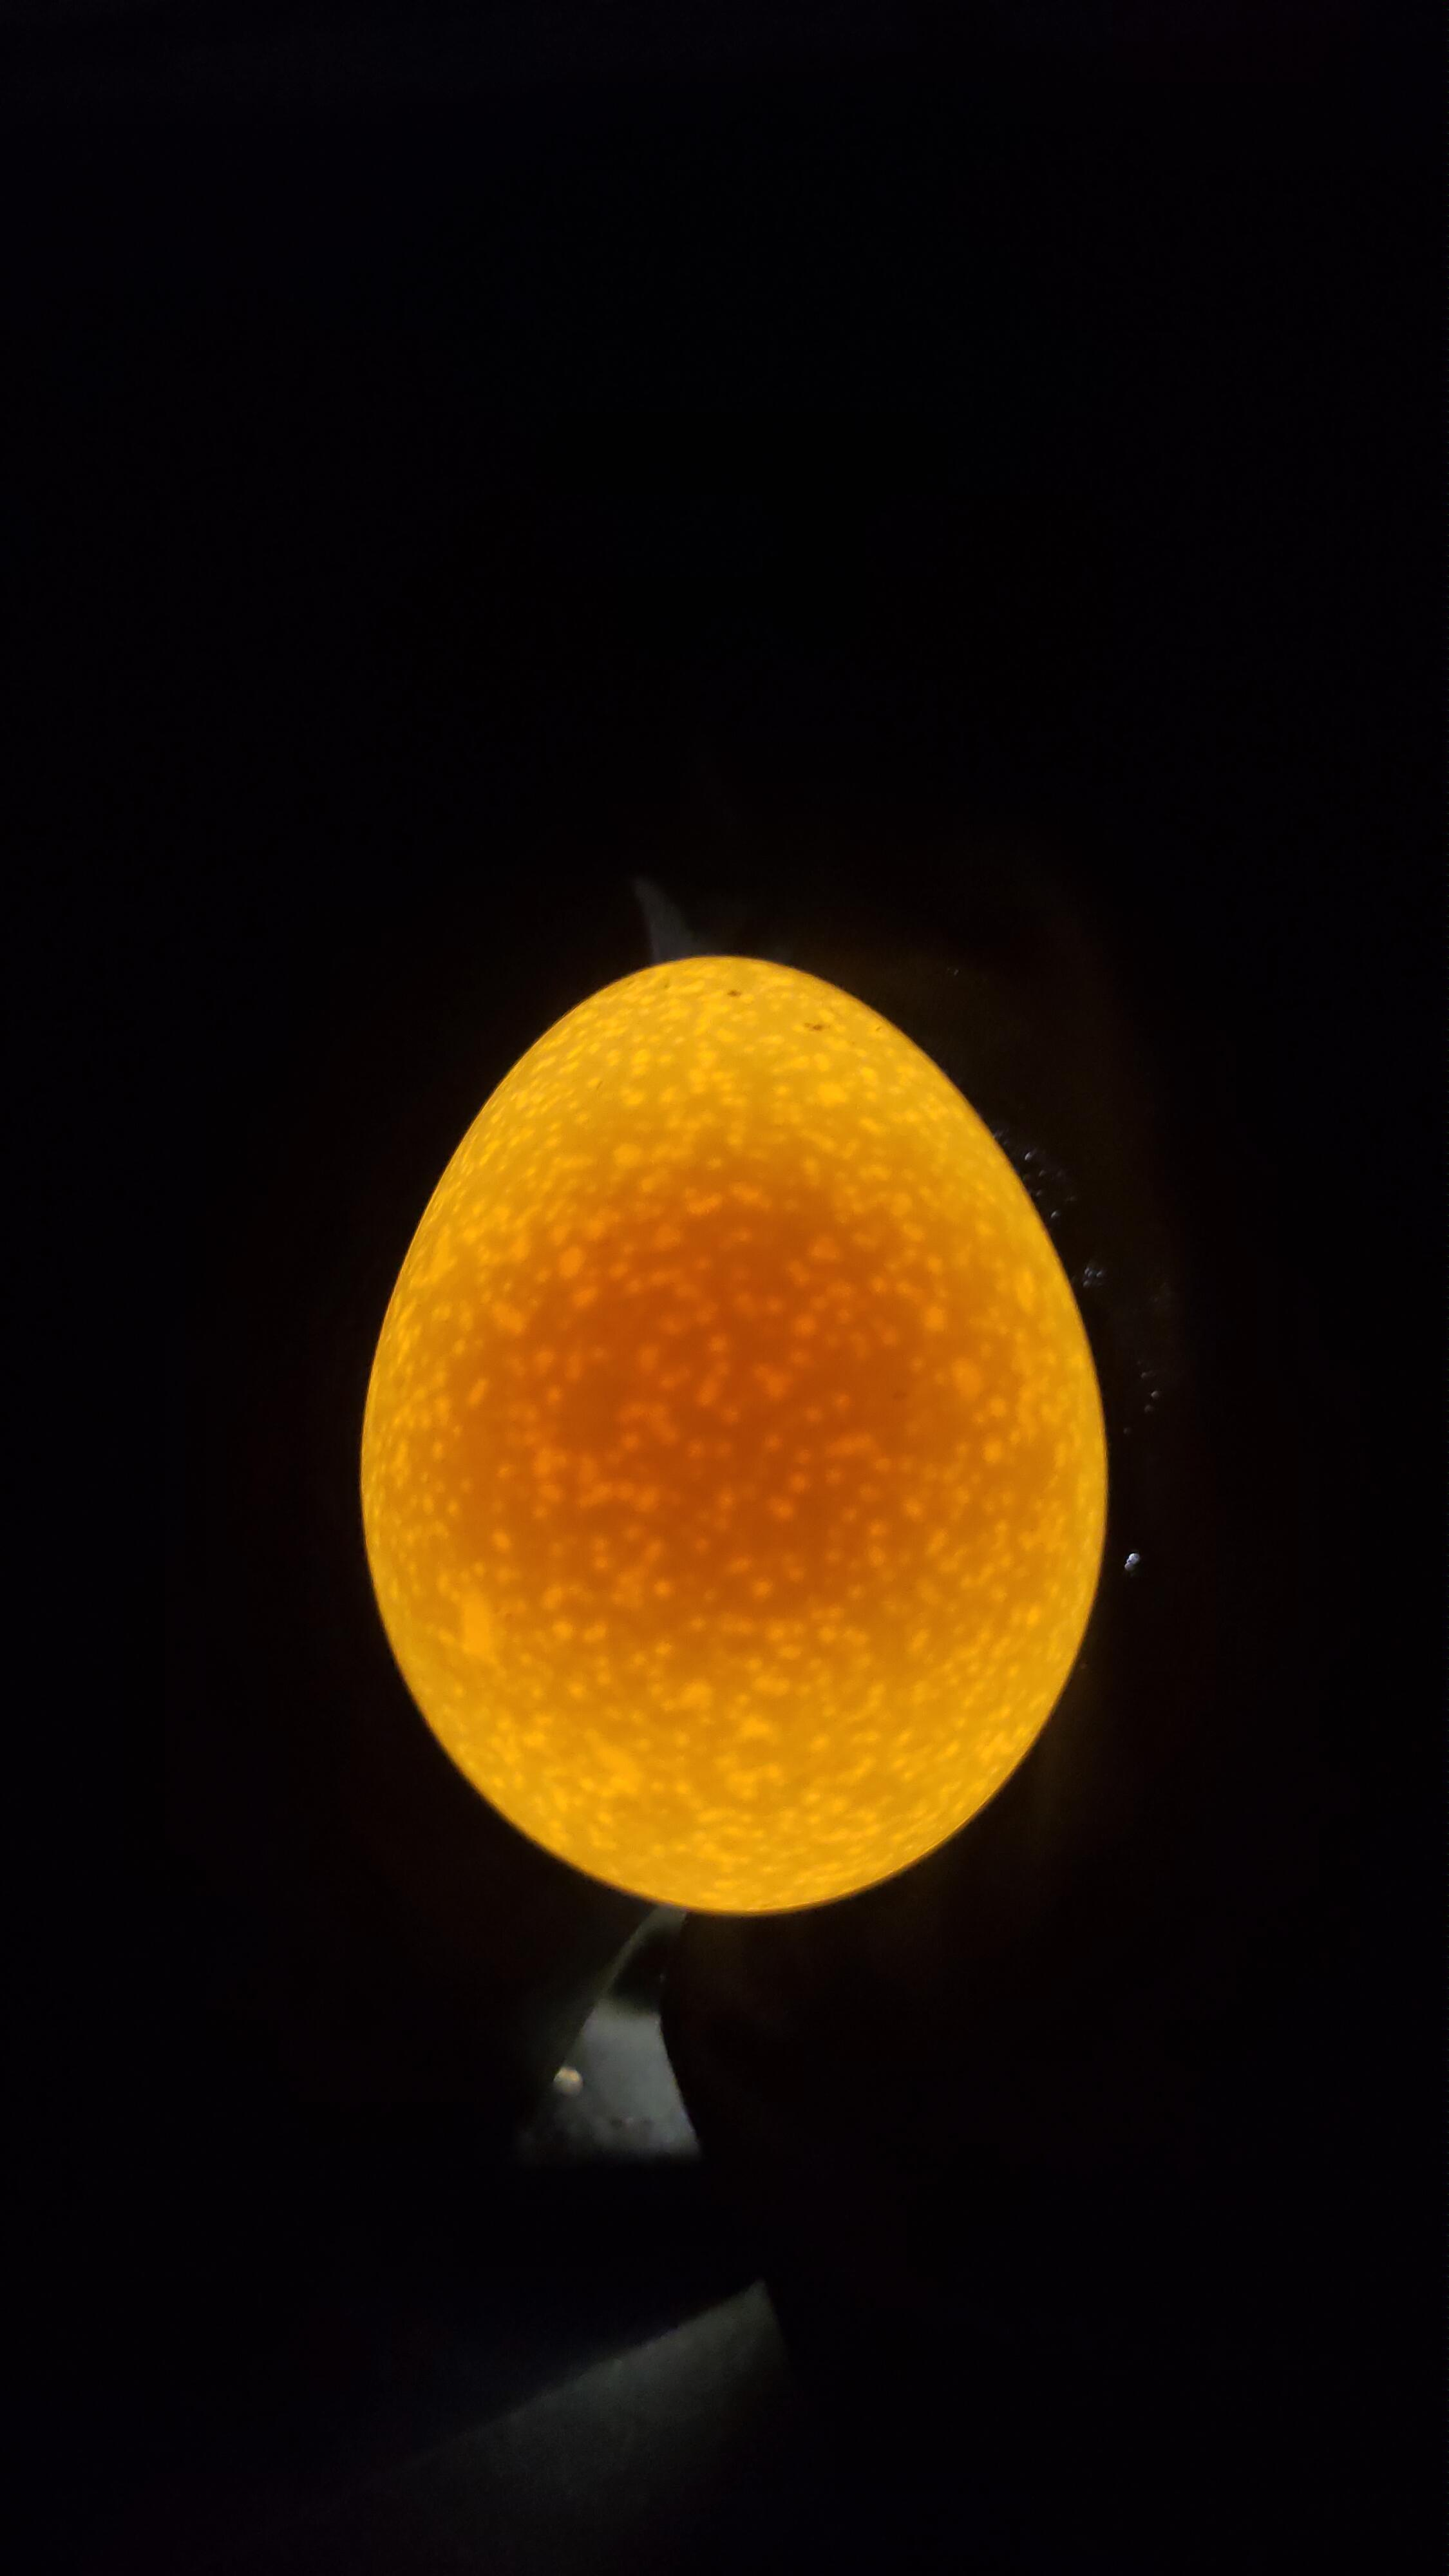A - Good: (315, 922, 1139, 1971)
